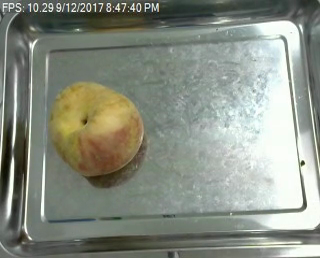Peach: (48, 80, 145, 176)
